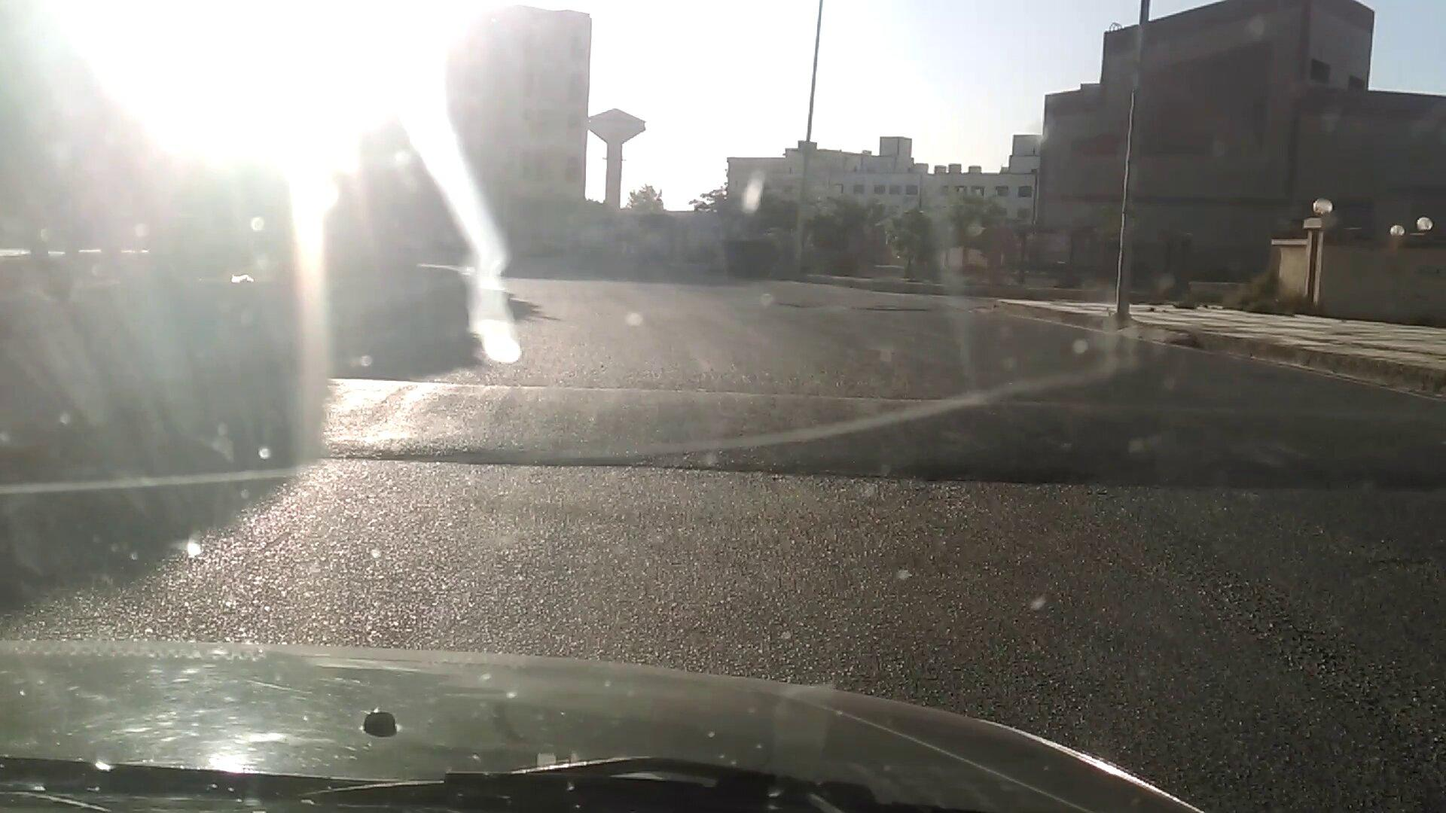Bump: (326, 365, 1446, 527)
